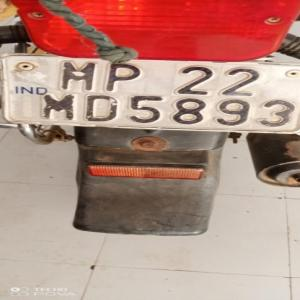Plate: (0, 55, 300, 129)
